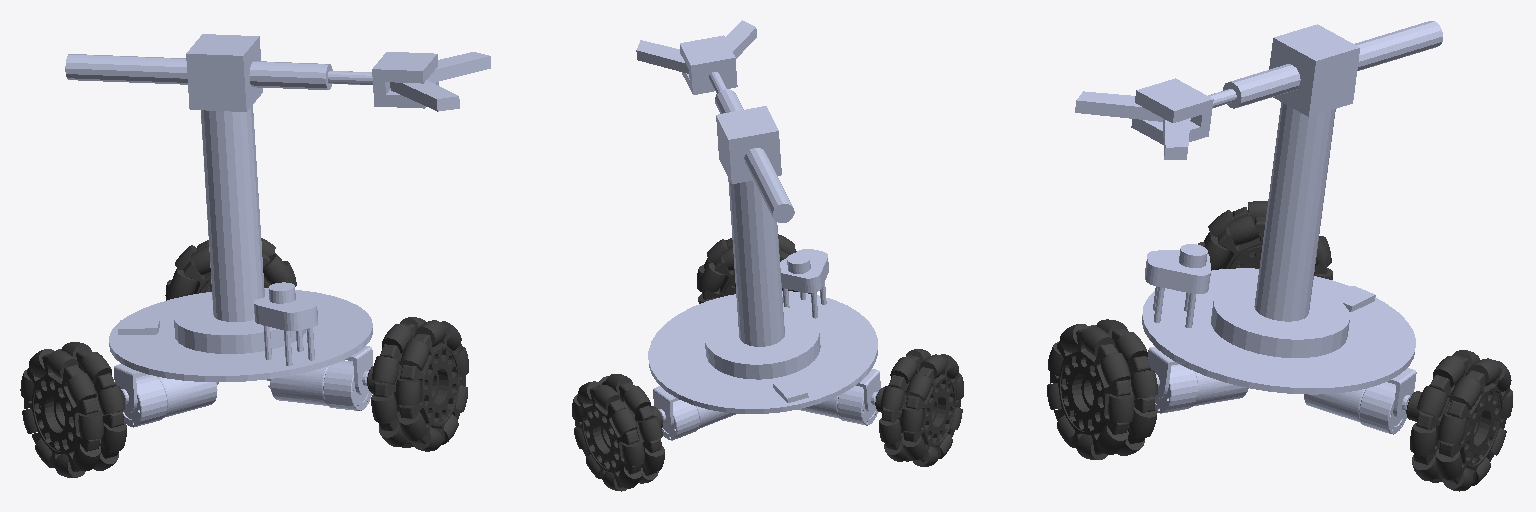
robot.urdf — omni_car:
<?xml version="1.0" encoding="utf-8"?>
<!-- This URDF was automatically created by SolidWorks to URDF Exporter! Originally created by [author] ([email redacted]) 
     Commit Version: 1.6.0-4-g7f85cfe  Build Version: 1.6.7995.38578
     For more information, please see http://wiki.ros.org/sw_urdf_exporter -->
<robot
  name="omni_car">
  <link
    name="base_link">
    <inertial>
      <origin
        xyz="-0.00012408 0.0042357 0.034438"
        rpy="0 0 0" />
      <mass
        value="0.75074" />
      <inertia
        ixx="0.0012261"
        ixy="9.6504E-08"
        ixz="-2.7494E-08"
        iyy="0.0012244"
        iyz="-1.5483E-05"
        izz="0.0010961" />
    </inertial>
    <visual>
      <origin
        xyz="0 0 0"
        rpy="0 0 0" />
      <geometry>
        <mesh
          filename="package://omni3/meshes/base_link.STL" />
      </geometry>
      <material
        name="">
        <color
          rgba="0.79216 0.81961 0.93333 1" />
      </material>
    </visual>
    <collision>
      <origin
        xyz="0 0 0"
        rpy="0 0 0" />
      <geometry>
        <mesh
          filename="package://omni3/meshes/base_link.STL" />
      </geometry>
    </collision>
  </link>
  <link
    name="xoay">
    <inertial>
      <origin
        xyz="-0.0070766 -0.1797 -0.013423"
        rpy="0 0 0" />
      <mass
        value="0.099764" />
      <inertia
        ixx="0.00018874"
        ixy="2.0009E-06"
        ixz="-8.7009E-05"
        iyy="0.00023659"
        iyz="3.7953E-06"
        izz="6.9571E-05" />
    </inertial>
    <visual>
      <origin
        xyz="0 0 0"
        rpy="0 0 0" />
      <geometry>
        <mesh
          filename="package://omni3/meshes/xoay.STL" />
      </geometry>
      <material
        name="">
        <color
          rgba="0.79216 0.81961 0.93333 1" />
      </material>
    </visual>
    <collision>
      <origin
        xyz="0 0 0"
        rpy="0 0 0" />
      <geometry>
        <mesh
          filename="package://omni3/meshes/xoay.STL" />
      </geometry>
    </collision>
  </link>
  <joint
    name="joint_xoay"
    type="revolute">
    <origin
      xyz="-1.3412E-05 0.0041829 0.035383"
      rpy="-1.5338 -0.11238 -1.8896" />
    <parent
      link="base_link" />
    <child
      link="xoay" />
    <axis
      xyz="0 1 0" />
    <limit
      lower="0"
      upper="0"
      effort="0"
      velocity="0" />
  </joint>
  <link
    name="keo">
    <inertial>
      <origin
        xyz="0.099444 0.03334 0.099326"
        rpy="0 0 0" />
      <mass
        value="0.066481" />
      <inertia
        ixx="1.6149E-05"
        ixy="-4.2882E-07"
        ixz="-3.6083E-06"
        iyy="2.4493E-05"
        iyz="-1.016E-06"
        izz="1.6064E-05" />
    </inertial>
    <visual>
      <origin
        xyz="0 0 0"
        rpy="0 0 0" />
      <geometry>
        <mesh
          filename="package://omni3/meshes/keo.STL" />
      </geometry>
      <material
        name="">
        <color
          rgba="0.79216 0.81961 0.93333 1" />
      </material>
    </visual>
    <collision>
      <origin
        xyz="0 0 0"
        rpy="0 0 0" />
      <geometry>
        <mesh
          filename="package://omni3/meshes/keo.STL" />
      </geometry>
    </collision>
  </link>
  <joint
    name="joint_keo"
    type="prismatic">
    <origin
      xyz="-1.3412E-05 0.022532 0.18978"
      rpy="1.5708 0 0" />
    <parent
      link="base_link" />
    <child
      link="keo" />
    <axis
      xyz="-0.69533 -0.084814 -0.71367" />
    <limit
      lower="0"
      upper="0.05"
      effort="0"
      velocity="0" />
  </joint>
    <!--lidar-->
  <link
    name="lidar">
    <inertial>
      <origin
        xyz="0.00094299 0.0070654 -0.017959"
        rpy="0 0 0" />
      <mass
        value="0.029933" />
      <inertia
        ixx="6.7548E-06"
        ixy="-1.5749E-07"
        ixz="5.2722E-08"
        iyy="5.5959E-06"
        iyz="3.9502E-07"
        izz="7.6738E-06" />
    </inertial>
    <visual>
      <origin
        xyz="0 0 0"
        rpy="0 0 0" />
      <geometry>
        <mesh
          filename="package://omni3/meshes/lidar.STL" />
      </geometry>
      <material
        name="">
        <color
          rgba="0.79216 0.81961 0.93333 1" />
      </material>
    </visual>
    <collision>
      <origin
        xyz="0 0 0"
        rpy="0 0 0" />
      <geometry>
        <mesh
          filename="package://omni3/meshes/lidar.STL" />
      </geometry>
    </collision>
  </link>
  <joint
    name="joint_lidar"
    type="fixed">
    <origin
      xyz="8.4182E-05 -0.061155 0.06769"
      rpy="0.11672 -0.019253 -2.9789" />
    <parent
      link="base_link" />
    <child
      link="lidar" />
    <axis
      xyz="0 0 0" />
  </joint>
  <gazebo reference="lidar">
  <sensor name="lidar_sensor" type="ray">
    <pose>0 0 0 0 0 0</pose>
    <visualize>true</visualize>
    <update_rate>10.0</update_rate>
    <ray>
      <scan>
        <horizontal>
          <samples>360</samples>
          <resolution>1</resolution>
          <min_angle>-3.14159</min_angle>
          <max_angle>3.14159</max_angle>
        </horizontal>
      </scan>
      <range>
        <min>0.1</min>
        <max>10.0</max>
        <resolution>0.01</resolution>
      </range>
      <noise>
        <type>gaussian</type>
        <mean>0.0</mean>
        <stddev>0.01</stddev>
      </noise>
    </ray>
    <plugin name="lidar_plugin" filename="libgazebo_ros_laser.so">
      <robotNamespace>/my_robot</robotNamespace>
      <topicName>lidar_data</topicName>
      <frameName>lidar</frameName>
      <updateRateHZ>10.0</updateRateHZ>
    </plugin>
  </sensor>
  </gazebo>
    <!--lidar-->
    <!--imu-->
  <link
    name="imu">
    <inertial>
      <origin
        xyz="0 0 -0.0025"
        rpy="0 0 0" />
      <mass
        value="0.003" />
      <inertia
        ixx="1.0625E-07"
        ixy="-1.5551E-22"
        ixz="-1.9108E-22"
        iyy="2.3125E-07"
        iyz="-1.3069E-22"
        izz="3.25E-07" />
    </inertial>
    <visual>
      <origin
        xyz="0 0 0"
        rpy="0 0 0" />
      <geometry>
        <mesh
          filename="package://omni3/meshes/imu.STL" />
      </geometry>
      <material
        name="">
        <color
          rgba="0.79216 0.81961 0.93333 1" />
      </material>
    </visual>
    <collision>
      <origin
        xyz="0 0 0"
        rpy="0 0 0" />
      <geometry>
        <mesh
          filename="package://omni3/meshes/imu.STL" />
      </geometry>
    </collision>
  </link>
  <joint
    name="joint_imu"
    type="fixed">
    <origin
      xyz="-0.058254 0.053715 0.0036868"
      rpy="0.096571 0.068413 2.5271" />
    <parent
      link="base_link" />
    <child
      link="imu" />
    <axis
      xyz="0 0 0" />
  </joint>
  <gazebo reference="imu">
  <sensor name="imu_sensor" type="imu">
    <always_on>true</always_on>
    <update_rate>50.0</update_rate>
    <plugin name="imu_plugin" filename="libgazebo_ros_imu_sensor.so">
      <robotNamespace>/my_robot</robotNamespace>
      <topicName>imu_data</topicName>
      <bodyName>imu</bodyName>
      <frameName>imu</frameName>
      <updateRateHZ>50.0</updateRateHZ> <!-- Thêm tần suất publish -->
      <gaussianNoise>0.01</gaussianNoise>
      <xyzOffset>0 0 0</xyzOffset> <!-- Sửa từ xyzOffsets -->
      <rpyOffset>0 0 0</rpyOffset> <!-- Sửa từ rpyOffsets -->
    </plugin>
  </sensor>
  </gazebo>
  <!--imu-->
  <link
    name="b1">
    <inertial>
      <origin
        xyz="-0.0020673 0.014408 -0.079618"
        rpy="0 0 0" />
      <mass
        value="0.21655" />
      <inertia
        ixx="4.5334E-05"
        ixy="3.1131E-09"
        ixz="-4.3134E-09"
        iyy="4.6444E-05"
        iyz="-6.2997E-06"
        izz="8.1005E-05" />
    </inertial>
    <visual>
      <origin
        xyz="0 0 0"
        rpy="0 0 0" />
      <geometry>
        <mesh
          filename="package://omni3/meshes/b1.STL" />
      </geometry>
      <material
        name="">
        <color
          rgba="0.29412 0.29412 0.29412 1" />
      </material>
    </visual>
    <collision>
      <origin
        xyz="0 0 0"
        rpy="0 0 0" />
      <geometry>
        <mesh
          filename="package://omni3/meshes/b1.STL" />
      </geometry>
    </collision>
  </link>
  <joint
    name="joint_b1"
    type="continuous">
    <origin
      xyz="0.036671 -0.059205 -0.011999"
      rpy="2.2904 -1.4438 2.8337" />
    <parent
      link="base_link" />
    <child
      link="b1" />
    <axis
      xyz="0 0.17383 -0.98478" />
  </joint>
  <!--transmissionb1-->
  <transmission name="tran_b1">
    <type>transmission_interface/SimpleTransmission</type>
    <joint name="joint_b1">
      <hardwareInterface>hardware_interface/VelocityJointInterface</hardwareInterface>
    </joint>
    <actuator name="motor_b1">
      <hardwareInterface>hardware_interface/VelocityJointInterface</hardwareInterface>
      <mechanicalReduction>1</mechanicalReduction>
    </actuator>
  </transmission>
  <link
    name="b3">
    <inertial>
      <origin
        xyz="1.111E-06 0.011907 0.034839"
        rpy="0 0 0" />
      <mass
        value="0.21655" />
      <inertia
        ixx="4.533E-05"
        ixy="2.2404E-09"
        ixz="1.237E-09"
        iyy="4.9183E-05"
        iyz="1.1258E-05"
        izz="7.8269E-05" />
    </inertial>
    <visual>
      <origin
        xyz="0 0 0"
        rpy="0 0 0" />
      <geometry>
        <mesh
          filename="package://omni3/meshes/b3.STL" />
      </geometry>
      <material
        name="">
        <color
          rgba="0.29412 0.29412 0.29412 1" />
      </material>
    </visual>
    <collision>
      <origin
        xyz="0 0 0"
        rpy="0 0 0" />
      <geometry>
        <mesh
          filename="package://omni3/meshes/b3.STL" />
      </geometry>
    </collision>
  </link>
  <joint
    name="joint_b3"
    type="continuous">
    <origin
      xyz="-0.11401 -0.0087406 -0.020008"
      rpy="1.8935 0.027744 -1.5158" />
    <parent
      link="base_link" />
    <child
      link="b3" />
    <axis
      xyz="0 0.32332 0.94629" />
  </joint>
  <!--transmissionb3-->
  <transmission name="tran_b3">
    <type>transmission_interface/SimpleTransmission</type>
    <joint name="joint_b3">
      <hardwareInterface>hardware_interface/VelocityJointInterface</hardwareInterface>
    </joint>
    <actuator name="motor_b3">
      <hardwareInterface>hardware_interface/VelocityJointInterface</hardwareInterface>
      <mechanicalReduction>1</mechanicalReduction>
    </actuator>
  </transmission>
  <link
    name="b2">
    <inertial>
      <origin
        xyz="3.1993E-06 0.0059415 0.017392"
        rpy="0 0 0" />
      <mass
        value="0.21655" />
      <inertia
        ixx="4.5335E-05"
        ixy="8.9364E-10"
        ixz="5.4511E-09"
        iyy="4.9175E-05"
        iyz="1.1254E-05"
        izz="7.8272E-05" />
    </inertial>
    <visual>
      <origin
        xyz="0 0 0"
        rpy="0 0 0" />
      <geometry>
        <mesh
          filename="package://omni3/meshes/b2.STL" />
      </geometry>
      <material
        name="">
        <color
          rgba="0.29412 0.29412 0.29412 1" />
      </material>
    </visual>
    <collision>
      <origin
        xyz="0 0 0"
        rpy="0 0 0" />
      <geometry>
        <mesh
          filename="package://omni3/meshes/b2.STL" />
      </geometry>
    </collision>
  </link>
  <joint
    name="joint_b2"
    type="continuous">
    <origin
      xyz="0.059851 0.11501 -0.034716"
      rpy="-1.5247 -1.1842 -0.20761" />
    <parent
      link="base_link" />
    <child
      link="b2" />
    <axis
      xyz="0 0.32332 0.94629" />
  </joint>
  <!--transmissionb2-->
  <transmission name="tran_b2">
    <type>transmission_interface/SimpleTransmission</type>
    <joint name="joint_b2">
      <hardwareInterface>hardware_interface/VelocityJointInterface</hardwareInterface>
    </joint>
    <actuator name="motor_b2">
      <hardwareInterface>hardware_interface/VelocityJointInterface</hardwareInterface>
      <mechanicalReduction>1</mechanicalReduction>
    </actuator>
  </transmission>
 <!-- Thêm plugin gazebo_ros_control -->
  <gazebo>
  <plugin name="gazebo_ros_control" filename="libgazebo_ros_control.so">
    <robotNamespace>/my_robot</robotNamespace>
  </plugin>
  </gazebo>
</robot>

--- Facts derived from the render (not from the file) ---
Views: 3 orthographic renders of the robot side by side, from view 1: azimuth 30°, elevation 25°; view 2: azimuth 150°, elevation 25°; view 3: azimuth 270°, elevation 25°.
Model omni_car with 8 links and 7 joints (1 revolute, 3 continuous, 1 prismatic, 2 fixed), rooted at base_link, posed all joints at 0.
Visible links, largest first — view 1: base_link, b3, b1, xoay, keo, lidar, b2, imu; view 2: base_link, b2, b3, xoay, keo, lidar, b1, imu; view 3: base_link, b1, b2, xoay, keo, b3, lidar, imu.
Link boxes in pixels (left/top/right/bottom): base_link: left=109, top=105, right=372, bottom=427; b3: left=20, top=342, right=126, bottom=477; b1: left=367, top=317, right=468, bottom=451; xoay: left=65, top=34, right=332, bottom=111; keo: left=328, top=52, right=490, bottom=111; lidar: left=254, top=282, right=317, bottom=365; b2: left=165, top=238, right=296, bottom=300; imu: left=118, top=319, right=159, bottom=334; base_link: left=648, top=178, right=880, bottom=440; b2: left=572, top=374, right=664, bottom=491; b3: left=875, top=349, right=963, bottom=466; xoay: left=715, top=89, right=794, bottom=222; keo: left=636, top=20, right=756, bottom=94; lidar: left=780, top=249, right=828, bottom=318; b1: left=697, top=234, right=810, bottom=303; imu: left=773, top=377, right=808, bottom=402; base_link: left=1142, top=102, right=1416, bottom=434; b1: left=1047, top=319, right=1157, bottom=459; b2: left=1406, top=350, right=1512, bottom=491; xoay: left=1223, top=21, right=1442, bottom=116; keo: left=1075, top=78, right=1236, bottom=159; b3: left=1198, top=201, right=1332, bottom=279; lidar: left=1145, top=244, right=1210, bottom=327; imu: left=1333, top=286, right=1375, bottom=311.
Bounding box of the posed robot: 0.3447 × 0.338 × 0.329 m (x, y, z).
Meshes: 8 distinct files referenced, 8 mesh visuals loaded (8 binary STL).
